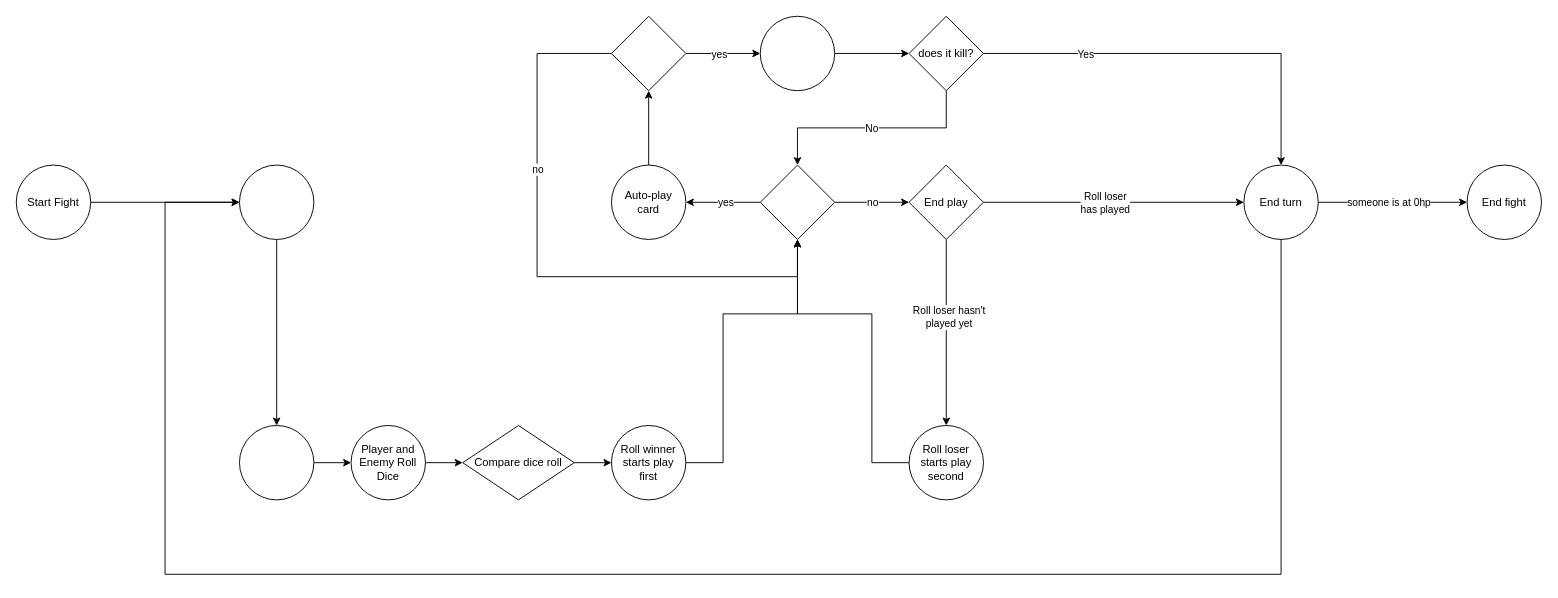
Some shapes in this 1558 by 598 pixel diagram are drawn without their labels. The box of each missing label's shape, as (x1, y1, x2, y2) in pixels:
Can play card?: (759, 164, 835, 239)
Does it do damage?: (611, 15, 686, 91)
Player and Enemy Draw Hand: (239, 425, 314, 500)
reduce opponent hp: (759, 15, 835, 91)
Start turn: (239, 164, 314, 239)
